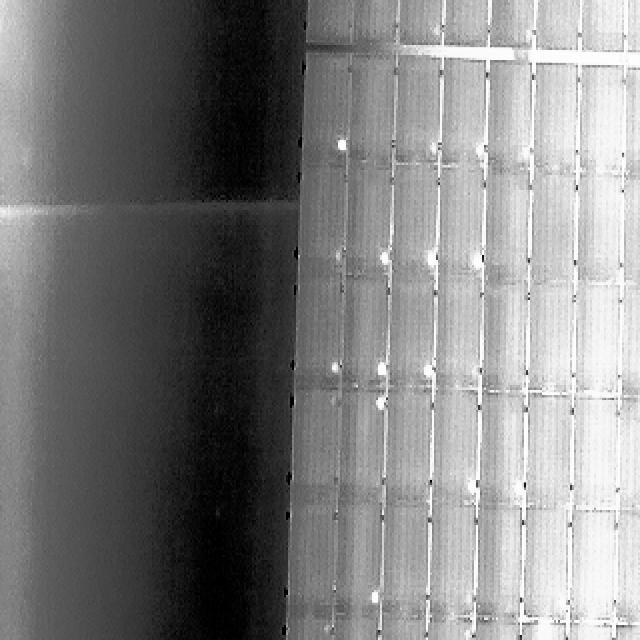Hotspots: (322, 354, 346, 381), (472, 136, 490, 164), (516, 144, 534, 168), (422, 134, 439, 159), (464, 471, 478, 501), (368, 362, 385, 382), (468, 254, 484, 274), (368, 396, 384, 414), (421, 254, 436, 273), (364, 590, 380, 607), (419, 362, 434, 380), (333, 138, 348, 156), (509, 484, 524, 502)
PV-modules: (332, 504, 383, 621), (432, 390, 482, 508), (475, 393, 526, 508), (383, 387, 433, 504), (289, 504, 339, 620), (381, 507, 431, 622), (390, 165, 440, 279), (568, 400, 618, 514), (480, 171, 530, 285), (334, 388, 384, 502), (430, 508, 480, 622), (474, 507, 524, 621), (338, 278, 388, 391), (296, 277, 345, 392), (566, 509, 615, 624), (434, 280, 484, 392), (437, 168, 487, 280), (523, 508, 572, 622), (292, 388, 341, 502), (342, 165, 392, 276), (576, 175, 626, 286), (526, 287, 576, 398), (524, 396, 574, 507), (484, 61, 533, 174), (303, 52, 352, 165), (386, 280, 436, 390), (529, 173, 578, 285), (575, 288, 624, 400), (300, 165, 349, 277), (345, 59, 394, 169), (578, 65, 627, 173), (437, 61, 486, 169), (478, 286, 527, 394), (394, 60, 442, 168), (531, 63, 579, 171), (304, 0, 398, 50), (612, 507, 640, 625), (616, 400, 640, 512), (618, 172, 640, 288), (618, 285, 640, 397), (578, 0, 624, 52), (396, 0, 443, 47), (486, 0, 534, 46), (534, 0, 580, 48), (620, 65, 640, 173), (444, 0, 492, 45), (328, 617, 378, 640), (422, 620, 472, 640), (378, 620, 428, 640), (470, 620, 520, 640), (284, 620, 334, 640), (520, 622, 568, 640), (624, 0, 640, 52), (562, 625, 610, 640), (610, 627, 640, 640)
